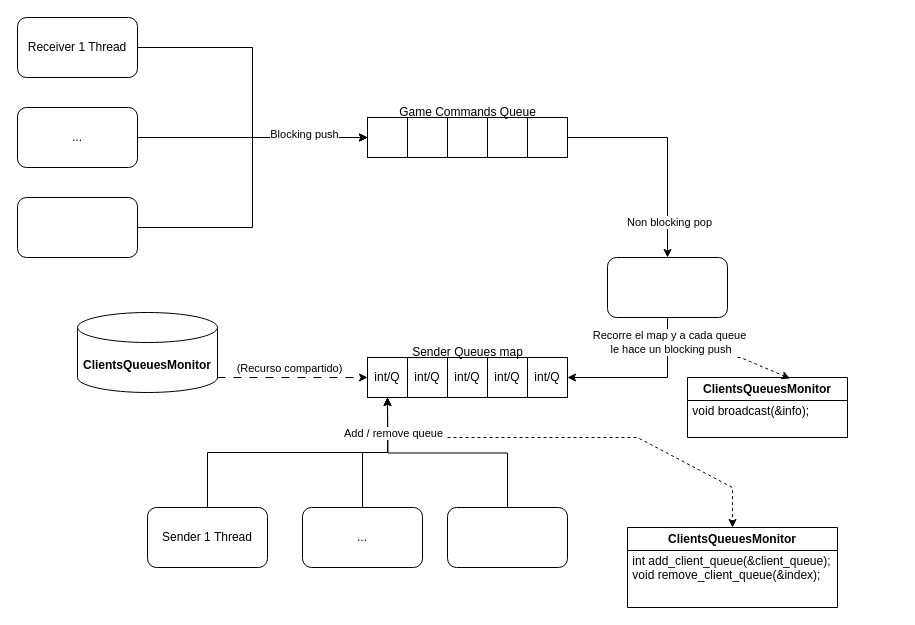
Image size: 915x625. Some labels were removed from this diagram. The centre of each missing label's shape, as x and y in pixels:
"Receiver n Thread" belongs at pixel 77 227.
"Sender n Thread" belongs at pixel 507 537.
"Thread Game" belongs at pixel 667 287.
